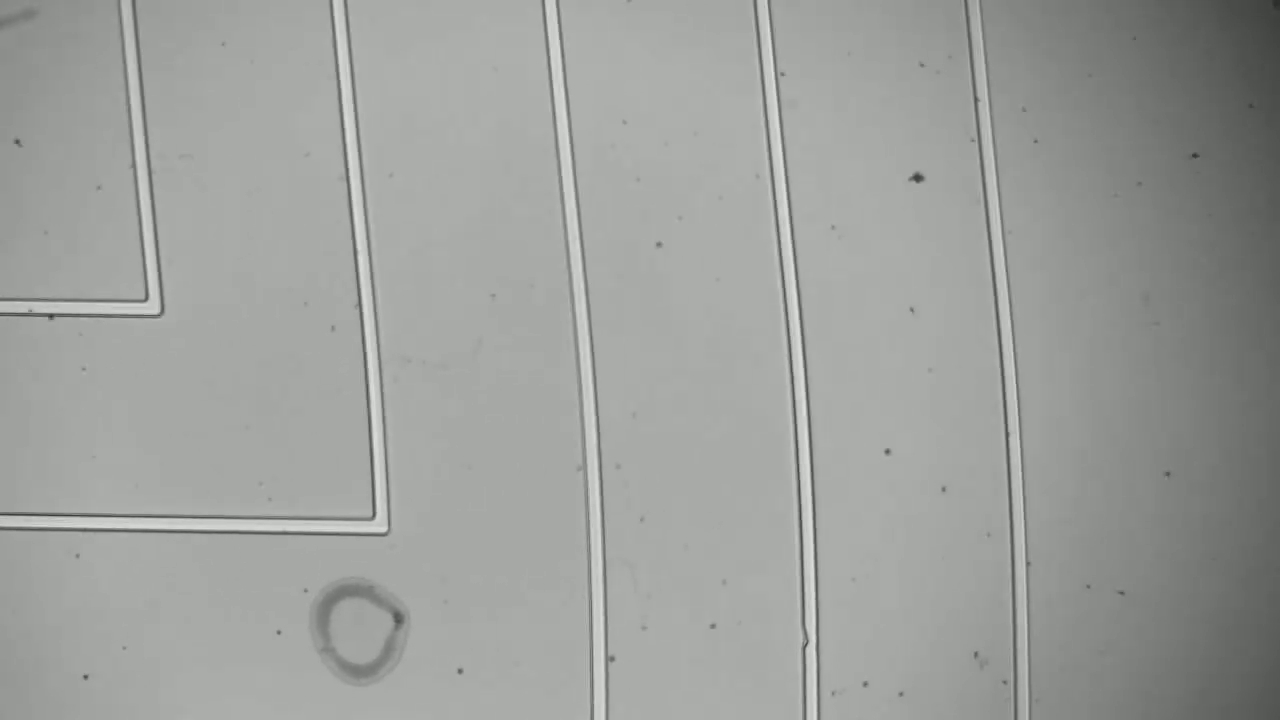edge_bite: (795, 617, 828, 656)
